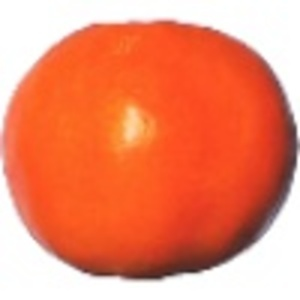tangerina: (1, 17, 300, 284)
